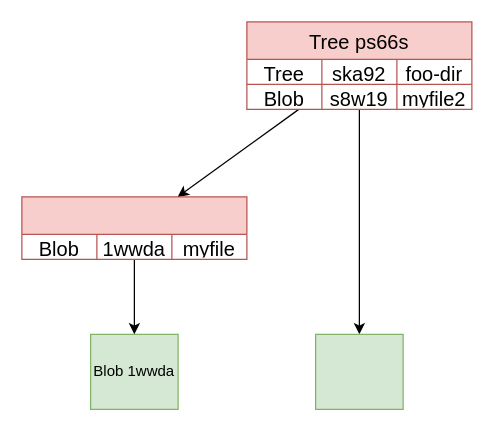
Some shapes in this 494 by 431 pixel diagram are drawn without their labels. Each missing label, with the box of its shape:
Blob s8w19: (314, 333, 403, 409)
Tree ska92: (21, 196, 247, 259)
